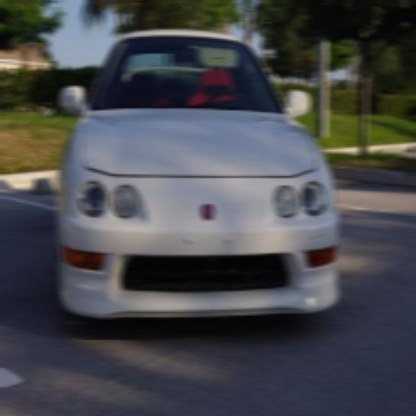Vehicle: (58, 29, 340, 319)
